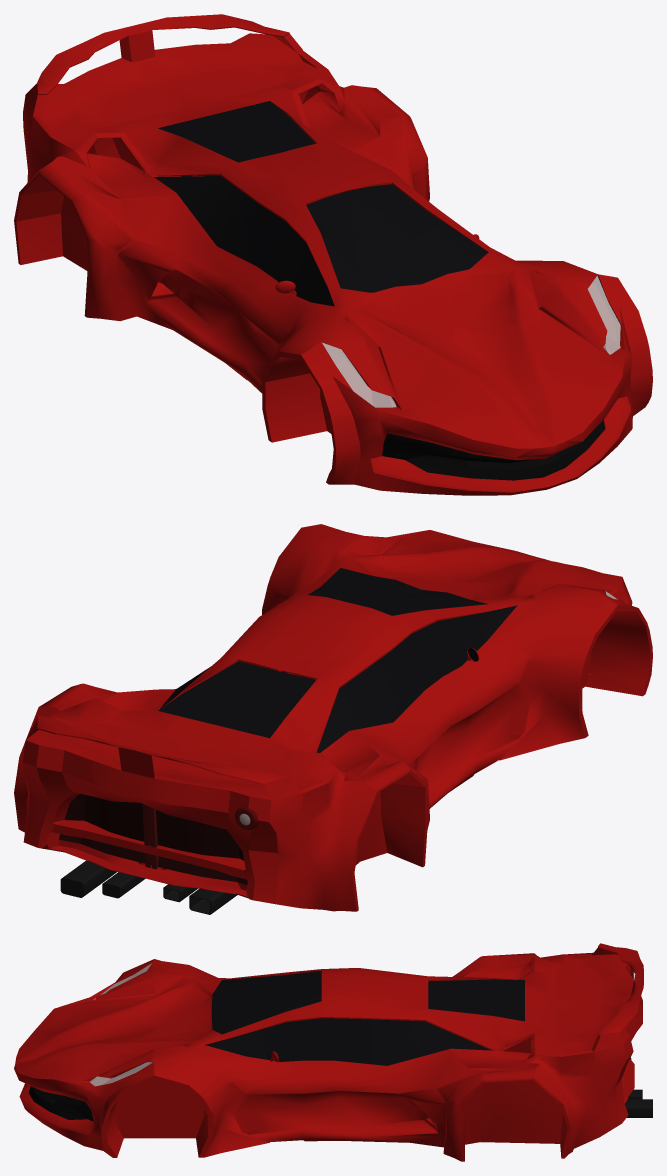
Rendered from car2.FBX.
The picture shows the model from 3 angles, top to bottom: view 1: azimuth 30°, elevation 25°; view 2: azimuth 150°, elevation 25°; view 3: azimuth 270°, elevation 25°; orthographic projection. The views are drawn at different scales.
Parts seen in each view (by area): view 1: Object007, Object010, Object019, Object016, Object023; view 2: Object007, Object010, Object015, Object021, Box003, Box002; view 3: Object007, Object010, Object019, Box003, Object023.
Part boxes in pixels (x1=…): Object007: x1=14, y1=14, x2=652, y2=495; Object010: x1=154, y1=101, x2=488, y2=306; Object019: x1=382, y1=420, x2=605, y2=480; Object016: x1=322, y1=342, x2=396, y2=407; Object023: x1=587, y1=275, x2=620, y2=354; Object007: x1=14, y1=524, x2=652, y2=911; Object010: x1=158, y1=568, x2=517, y2=753; Object015: x1=156, y1=810, x2=247, y2=884; Object021: x1=59, y1=793, x2=151, y2=865; Box003: x1=60, y1=860, x2=145, y2=898; Box002: x1=163, y1=884, x2=237, y2=914; Object007: x1=14, y1=943, x2=643, y2=1161; Object010: x1=205, y1=971, x2=524, y2=1065; Object019: x1=28, y1=1086, x2=93, y2=1121; Box003: x1=624, y1=1089, x2=652, y2=1117; Object023: x1=89, y1=1062, x2=152, y2=1086.
Size of the model in its own units: 75.53 by 34.84 by 164.
